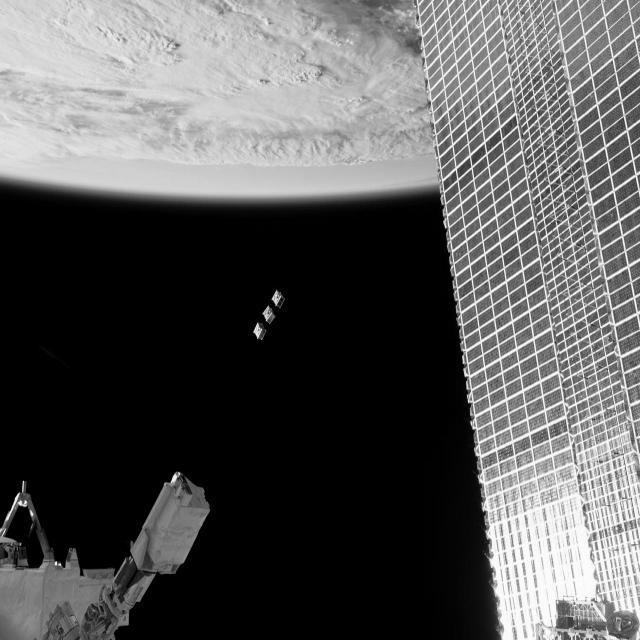satellite: (405, 0, 631, 625), (0, 458, 206, 640), (244, 289, 288, 355)
